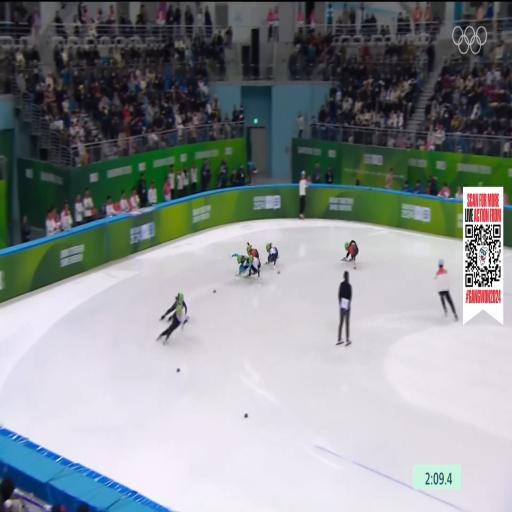Skater: (158, 293, 188, 342), (159, 293, 184, 322), (342, 240, 358, 268), (232, 254, 249, 275), (266, 243, 278, 265), (249, 256, 260, 278), (247, 243, 259, 258)
